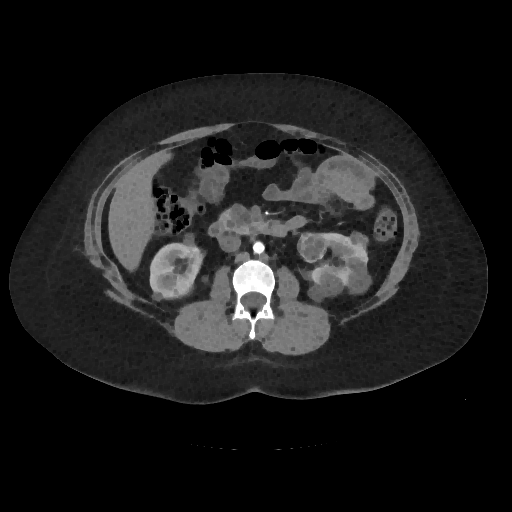Lesion: (292, 226, 329, 266)
